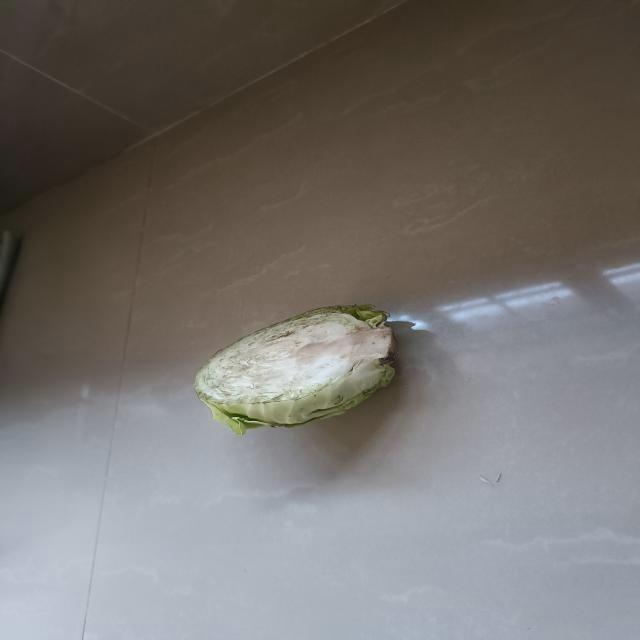cabbage: (191, 302, 393, 426)
